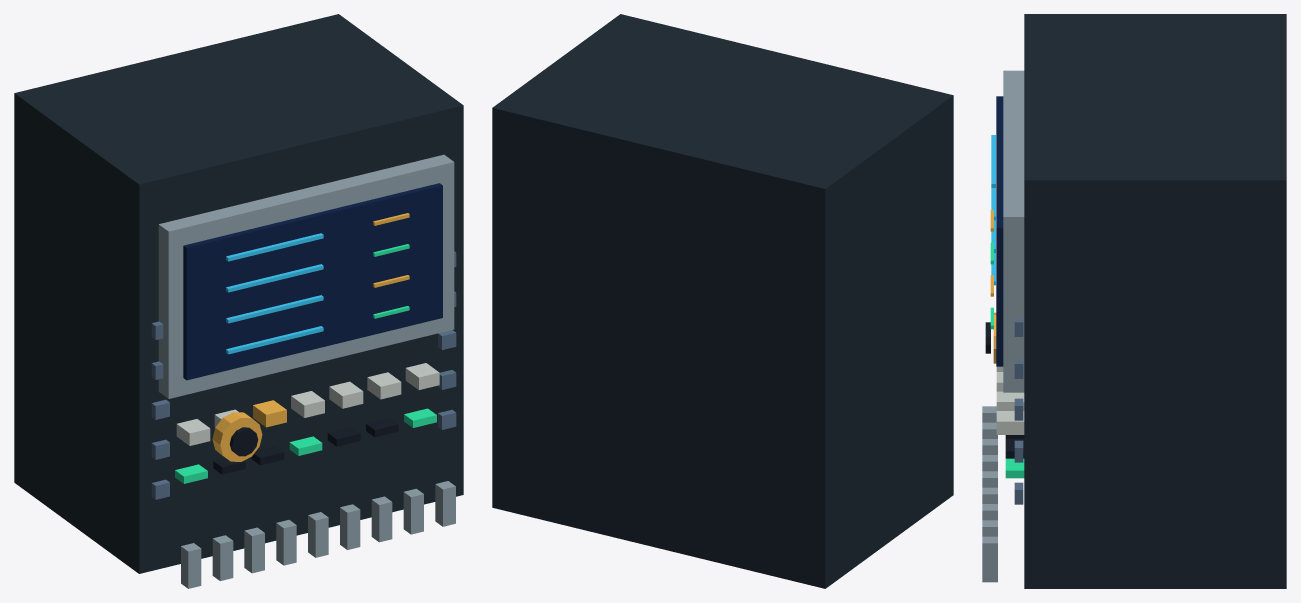
The model's file is 56_L84_SolarWingFlexibleModeEmulator.fbx.
3 views of the same model, side by side, from view 1: azimuth 30°, elevation 25°; view 2: azimuth 150°, elevation 25°; view 3: azimuth 270°, elevation 25° (orthographic). The views are drawn at different scales.
Parts seen in each view (by area): view 1: L84_SolarWingFlexibleModeEmulator, L84_SolarWingFlexibleModeEmulator_Part_0011, L84_SolarWingFlexibleModeEmulator_Part_0012; view 2: L84_SolarWingFlexibleModeEmulator; view 3: L84_SolarWingFlexibleModeEmulator.
Boxes of the visible parts, box(x1,y1,x2,y2) form: L84_SolarWingFlexibleModeEmulator: box(14, 14, 463, 588); L84_SolarWingFlexibleModeEmulator_Part_0011: box(212, 412, 262, 461); L84_SolarWingFlexibleModeEmulator_Part_0012: box(229, 427, 258, 456); L84_SolarWingFlexibleModeEmulator: box(492, 14, 953, 588); L84_SolarWingFlexibleModeEmulator: box(982, 14, 1286, 588).
Bounding box in the file's own units: 99.96 × 117 × 77.32.
